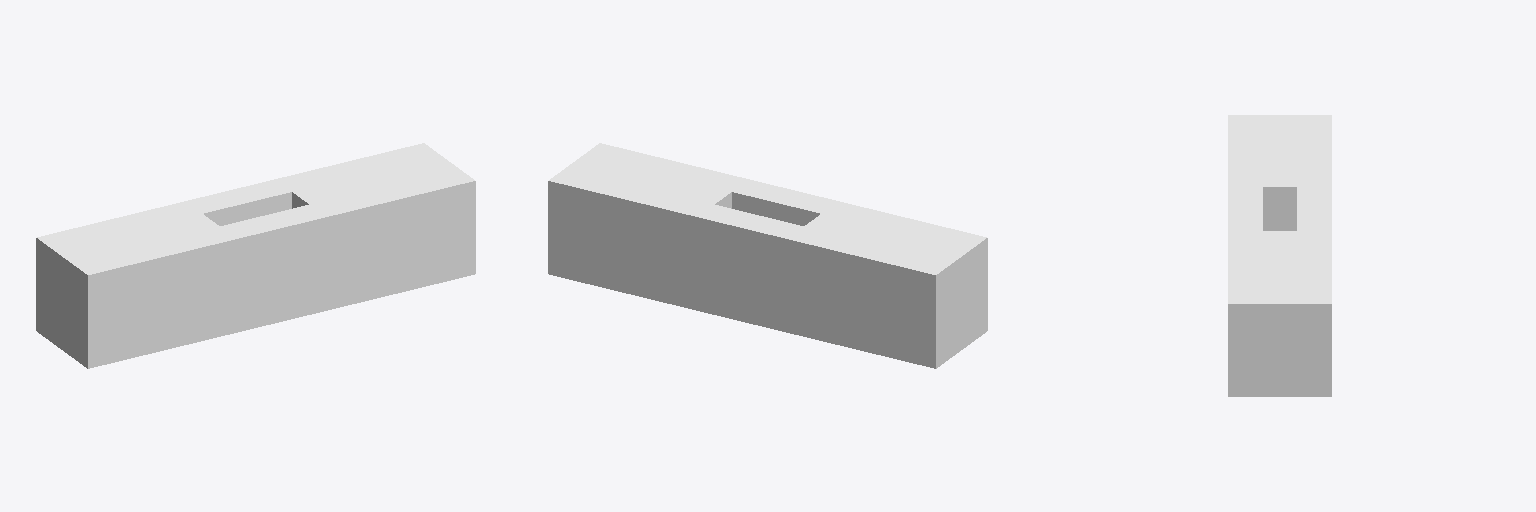
File: HammerHead01.obj
3 renders of one model, left to right at view 1: azimuth 30°, elevation 25°; view 2: azimuth 150°, elevation 25°; view 3: azimuth 270°, elevation 25°, orthographic.
Parts seen in each view (by area): view 1: object 1; view 2: object 1; view 3: object 1.
Boxes of the visible parts, box(x1,y1,x2,y2) form: object 1: box(36, 143, 475, 368); object 1: box(548, 143, 987, 368); object 1: box(1228, 115, 1331, 396).
Bounding box in the file's own units: 1.3 × 0.3 × 0.3.